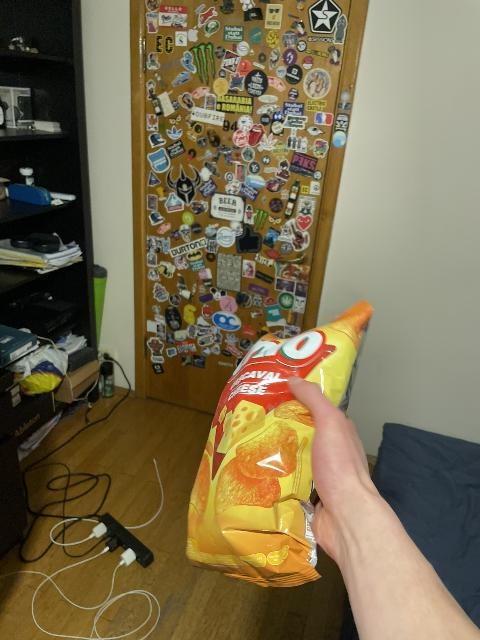Chio Cascaval 125g: (183, 297, 377, 584)
